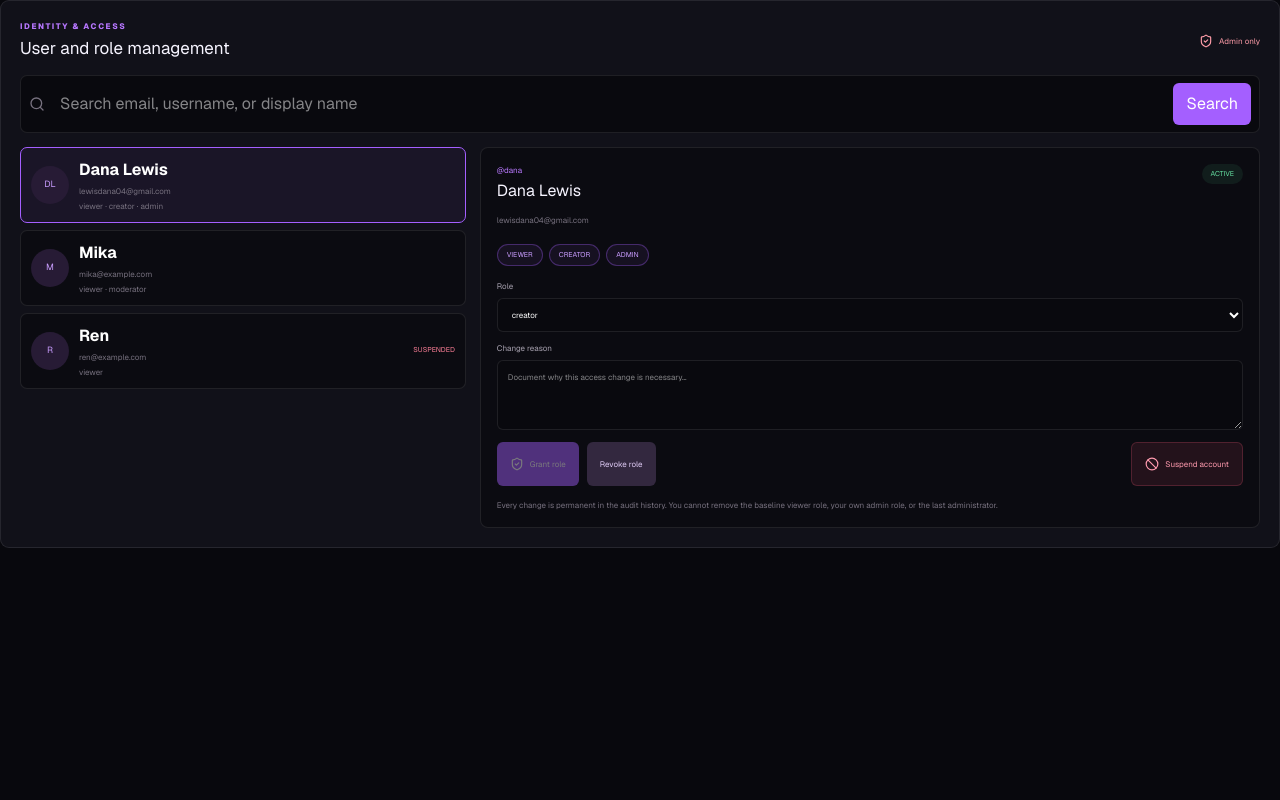
Scenario: AdminUserManager › requires an audit reason before suspending an account
Click the button "Suspend account" at (1187, 464), box left=1131, top=442, right=1243, bottom=486
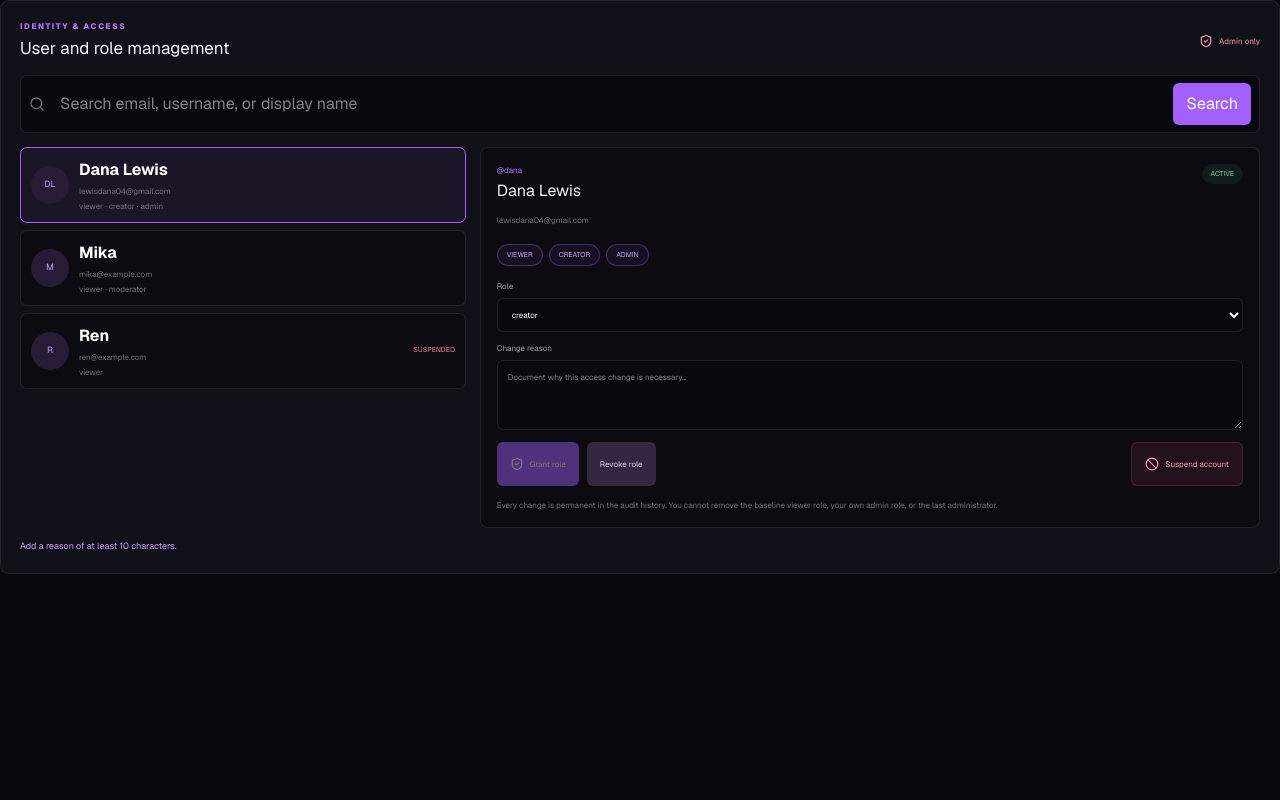
Expected: the text "Add a reason of at least 10 characters." is shown, left=20, top=540, right=177, bottom=552
